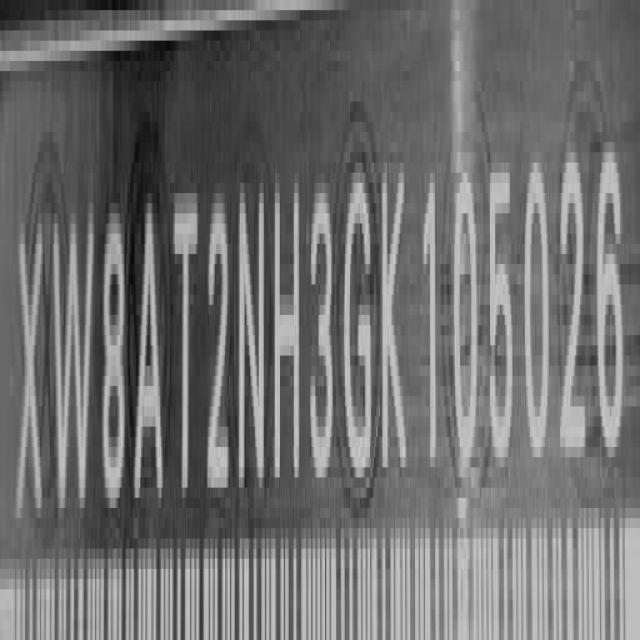0: (454, 156, 482, 482), (524, 152, 552, 471)
1: (421, 153, 440, 486)
2: (560, 146, 590, 469), (206, 183, 232, 511)
3: (308, 170, 338, 494)
5: (488, 147, 518, 474)
6: (598, 137, 626, 468)
8: (103, 208, 129, 522)
A: (136, 197, 166, 516)
G: (343, 177, 375, 493)
H: (273, 170, 302, 499)
K: (380, 147, 410, 484)
N: (236, 167, 267, 505)
T: (174, 183, 200, 515)
W: (51, 206, 93, 528)
X: (17, 213, 46, 534)
